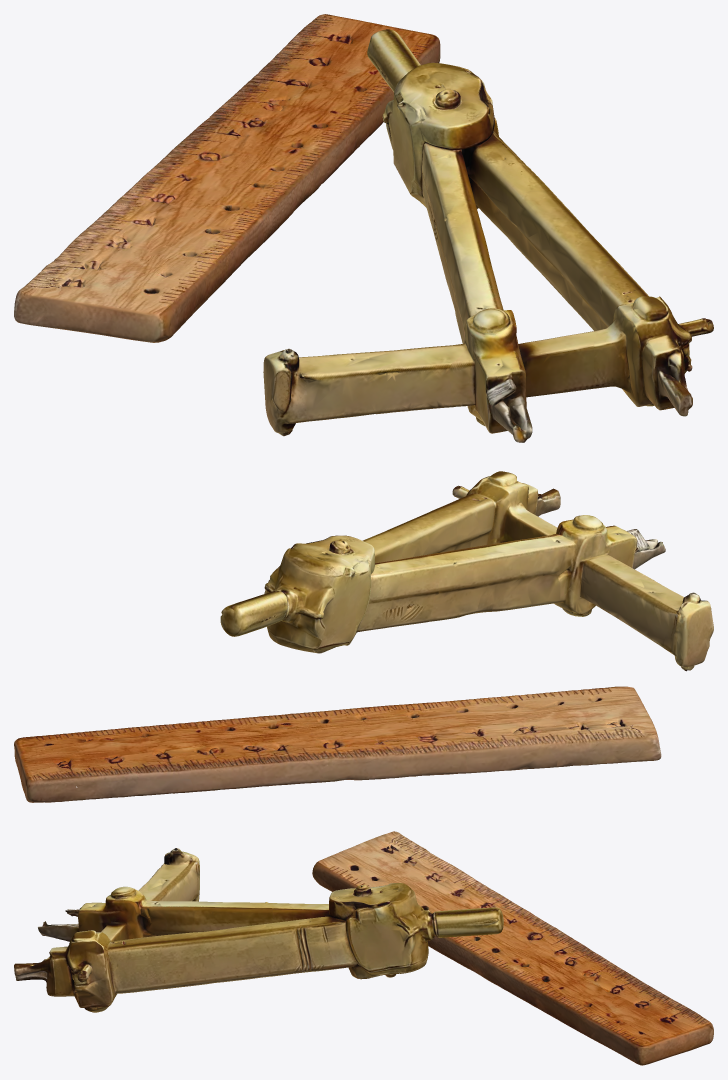
The model's file is drafting-tools.glb.
The picture shows the model from 3 angles, top to bottom: view 1: azimuth 30°, elevation 25°; view 2: azimuth 150°, elevation 25°; view 3: azimuth 270°, elevation 25°; orthographic projection. The views are drawn at different scales.
Parts seen in each view (by area): view 1: node_b399fa8d-0f9e-4ab1-905e-527bf5c789c1; view 2: node_b399fa8d-0f9e-4ab1-905e-527bf5c789c1; view 3: node_b399fa8d-0f9e-4ab1-905e-527bf5c789c1.
Part boxes in pixels (left/top/right/bottom): node_b399fa8d-0f9e-4ab1-905e-527bf5c789c1: left=14, top=14, right=713, bottom=442; node_b399fa8d-0f9e-4ab1-905e-527bf5c789c1: left=14, top=471, right=713, bottom=802; node_b399fa8d-0f9e-4ab1-905e-527bf5c789c1: left=14, top=831, right=713, bottom=1065.
Size of the model in its own units: 0.6778 by 0.1957 by 0.9792.
1 material, 1 textured.
